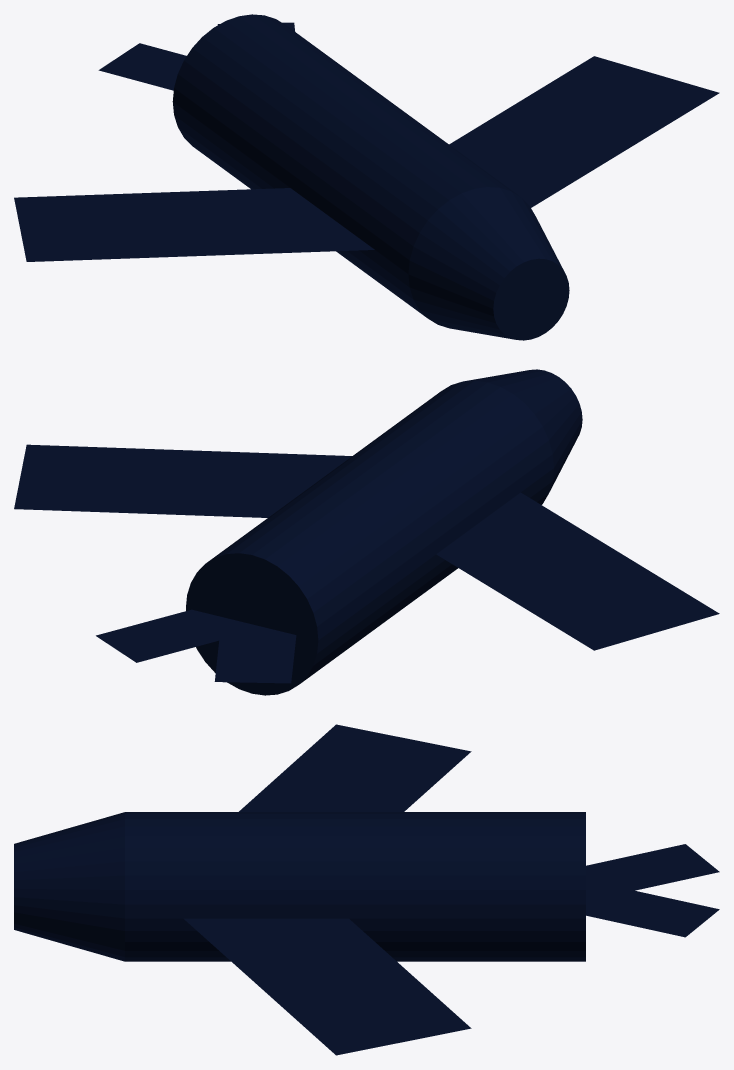
File: underwater_fish.glb
3 renders of one model, top to bottom at view 1: azimuth 30°, elevation 25°; view 2: azimuth 150°, elevation 25°; view 3: azimuth 270°, elevation 25°, orthographic. The views are drawn at different scales.
Parts seen in each view (by area): view 1: Body, RightWing, LeftWing, RightTail; view 2: Body, RightWing, LeftWing, LeftTail, RightTail; view 3: Body, LeftWing, RightWing, RightTail, LeftTail.
Part boxes in pixels (box(x1,y1,x2,y2)): Body: box(172, 14, 569, 340); RightWing: box(14, 188, 374, 261); LeftWing: box(449, 56, 719, 207); RightTail: box(98, 43, 186, 90); Body: box(186, 369, 582, 695); RightWing: box(436, 492, 719, 650); LeftWing: box(14, 444, 351, 517); LeftTail: box(96, 609, 264, 662); RightTail: box(214, 627, 296, 683); Body: box(14, 812, 585, 961); LeftWing: box(184, 918, 471, 1055); RightWing: box(239, 724, 471, 811); RightTail: box(586, 844, 719, 897); LeftTail: box(586, 890, 719, 937).
Size of the model in its own units: 1.05 by 0.2 by 0.9427.
